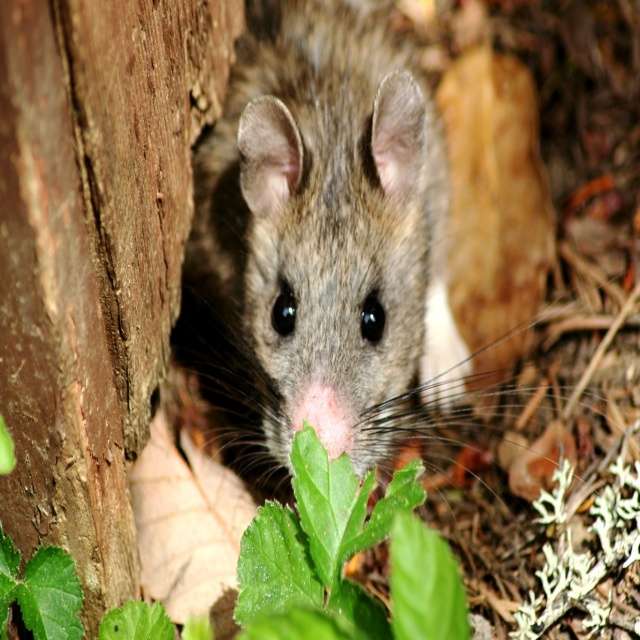Hamster: (191, 0, 640, 544)
